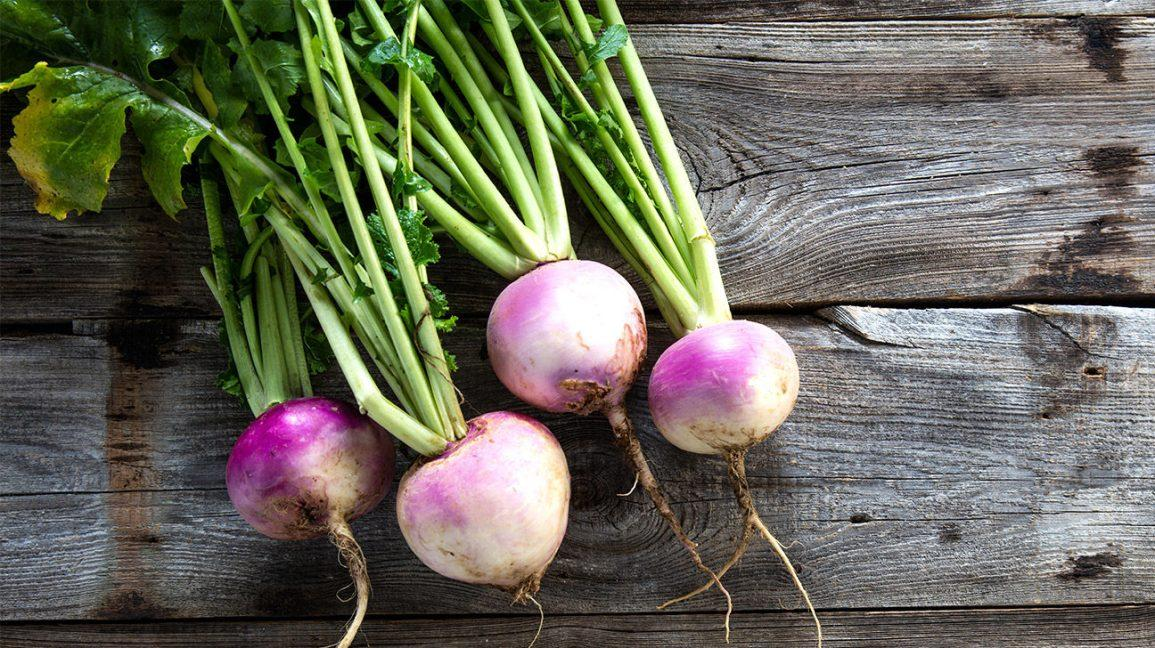turnip: (217, 2, 571, 642), (388, 0, 734, 639), (485, 257, 732, 625), (646, 318, 823, 645), (224, 394, 396, 646)
